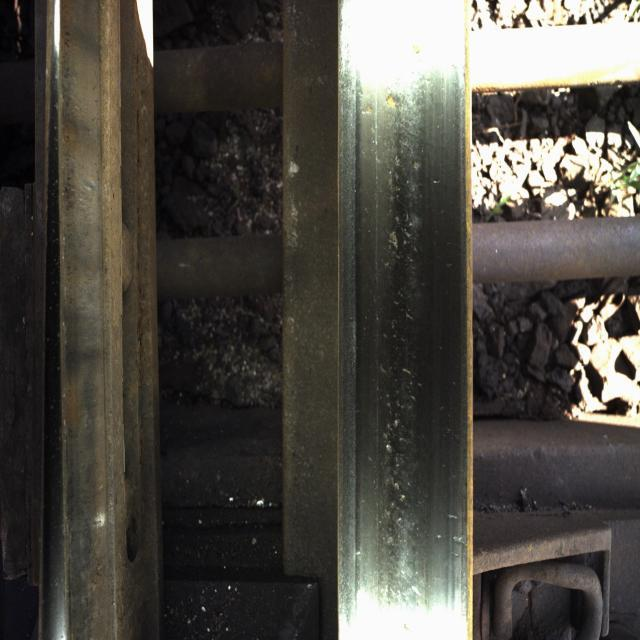crack: (362, 43, 452, 625)
